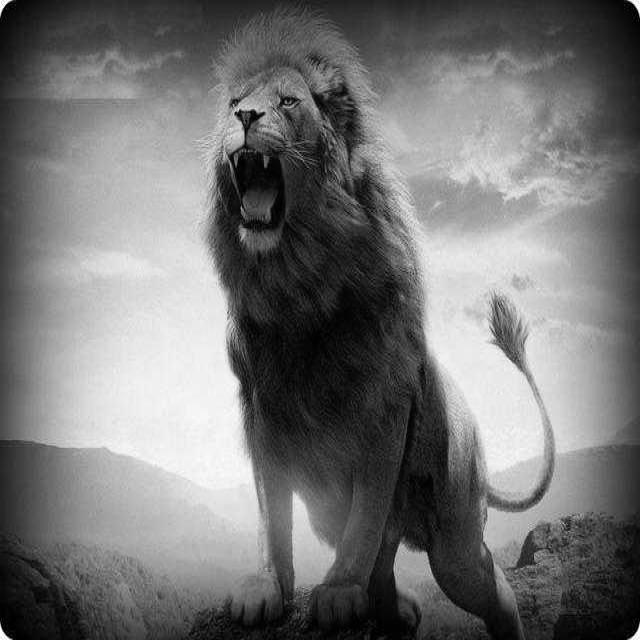Lion: (179, 64, 474, 606)
